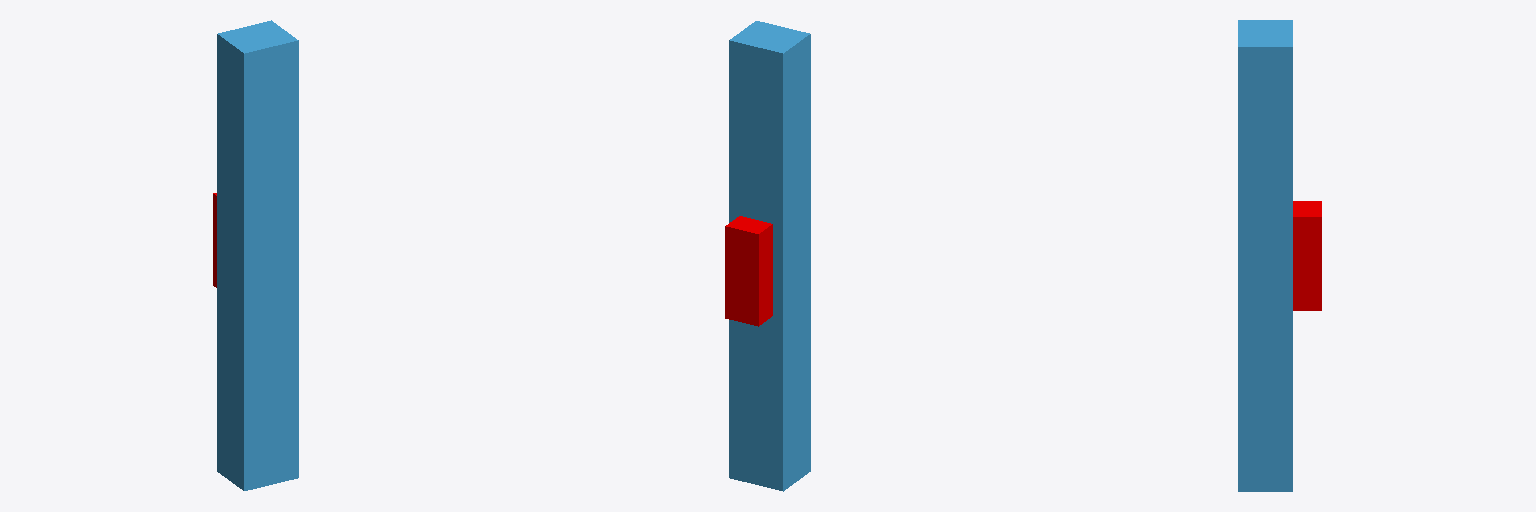
URDF robot description (knife):
<?xml version='1.0' encoding='utf-8'?>
<robot name="knife">
  <link name="link_1">
    <visual name="link_1">
      <origin xyz="0 0.010330 0" rpy="0 0 0" />
      <geometry>
        <box size="0.009564328598692114 0.007135317181195958 0.025348363492327497" /></geometry>
    <material name="red"><color rgba="1 0 0 1" /></material></visual>
    <collision>
      <origin xyz="0 0.010330 0" rpy="0 0 0" />
      <geometry>
        <box size="0.009564328598692114 0.007135317181195958 0.025348363492327497" /></geometry>
    </collision>
    </link>
  <joint name="joint_1" type="prismatic">
    <origin xyz="0 0 0" />
    <axis xyz="0 0 1" />
    <child link="link_1" />
    <parent link="link_0" />
    <limit lower="-0.020198" upper="0.029802" effort="100.0" velocity="1.0" />
  </joint>
  <link name="link_0">
    <visual name="link_0">
      <origin xyz="0 0 0" />
      <geometry>
        <box size="0.015621965204188544 0.013524019067763994 0.12031966791846" /></geometry>
    </visual>
    <collision>
      <origin xyz="0 0 0" />
      <geometry>
        <box size="0.015621965204188544 0.013524019067763994 0.12031966791846" /></geometry>
    </collision>
    </link>
</robot>

--- What the picture shows (computed from the rendered views, not written in the file) ---
Views: 3 orthographic renders of the robot side by side, from view 1: azimuth 30°, elevation 25°; view 2: azimuth 150°, elevation 25°; view 3: azimuth 270°, elevation 25°.
Robot: knife — 2 links, 1 joints (1 prismatic); root link link_0; default pose: every joint at zero.
Links seen in each view (by area): view 1: link_0; view 2: link_0, link_1; view 3: link_0, link_1.
Boxes of the visible links, x1=… form: link_0: x1=217, y1=20, x2=298, y2=490; link_0: x1=729, y1=21, x2=810, y2=491; link_1: x1=725, y1=216, x2=772, y2=326; link_0: x1=1238, y1=20, x2=1292, y2=491; link_1: x1=1293, y1=201, x2=1321, y2=310.
Bounding box of the posed robot: 0.0156 × 0.0207 × 0.1203 m (x, y, z).
Geometry: primitives only (box / cylinder / sphere), no mesh files.
